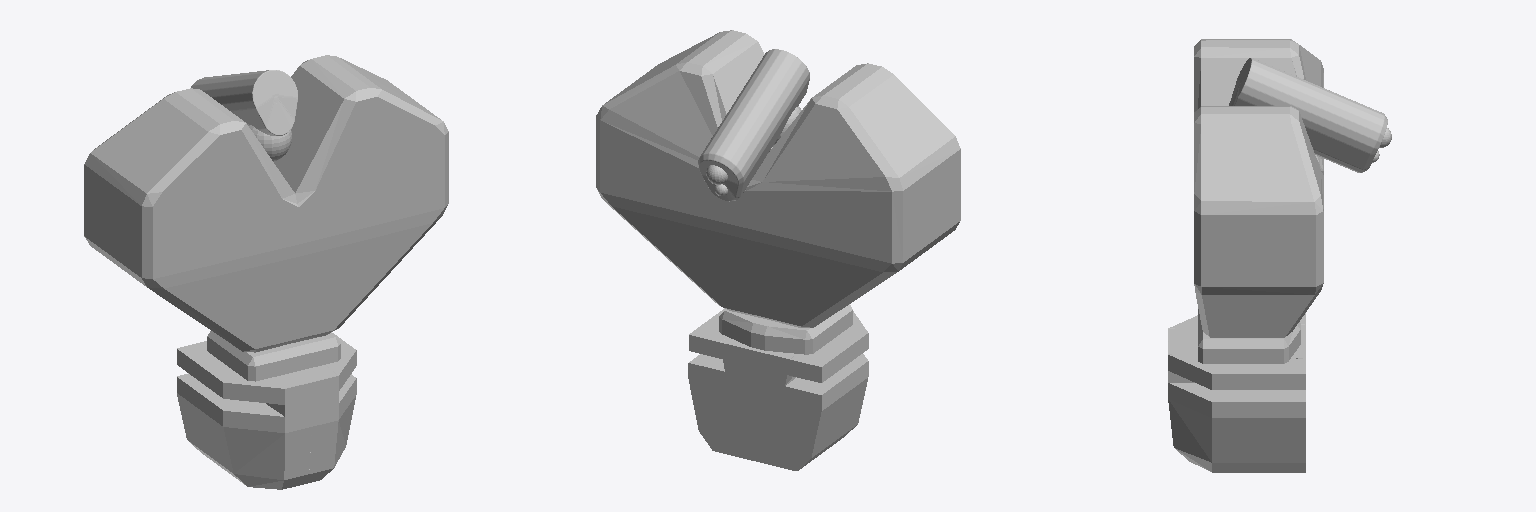
File: Robot_body.obj
3 renders of one model, left to right at view 1: azimuth 30°, elevation 25°; view 2: azimuth 150°, elevation 25°; view 3: azimuth 270°, elevation 25°, orthographic.
Visible parts, largest first — view 1: Torso, Core, Torso Neck Head, Core Torso_Joint, Torso Neck; view 2: Torso, Core, Torso Neck Head, Core Torso_Joint; view 3: Torso, Core, Torso Neck Head, Core Torso_Joint.
Boxes of the visible parts, x1=… form: Torso: x1=84, y1=55, x2=448, y2=352; Core: x1=177, y1=332, x2=356, y2=489; Torso Neck Head: x1=191, y1=70, x2=297, y2=135; Core Torso_Joint: x1=207, y1=331, x2=340, y2=381; Torso Neck: x1=247, y1=124, x2=291, y2=161; Torso: x1=596, y1=30, x2=960, y2=327; Core: x1=688, y1=308, x2=868, y2=470; Torso Neck Head: x1=698, y1=49, x2=809, y2=201; Core Torso_Joint: x1=719, y1=304, x2=852, y2=354; Torso: x1=1194, y1=39, x2=1323, y2=337; Core: x1=1168, y1=313, x2=1305, y2=472; Torso Neck Head: x1=1229, y1=58, x2=1387, y2=172; Core Torso_Joint: x1=1198, y1=309, x2=1300, y2=363.
Size of the model in its own units: 2.74 by 3.34 by 1.73.